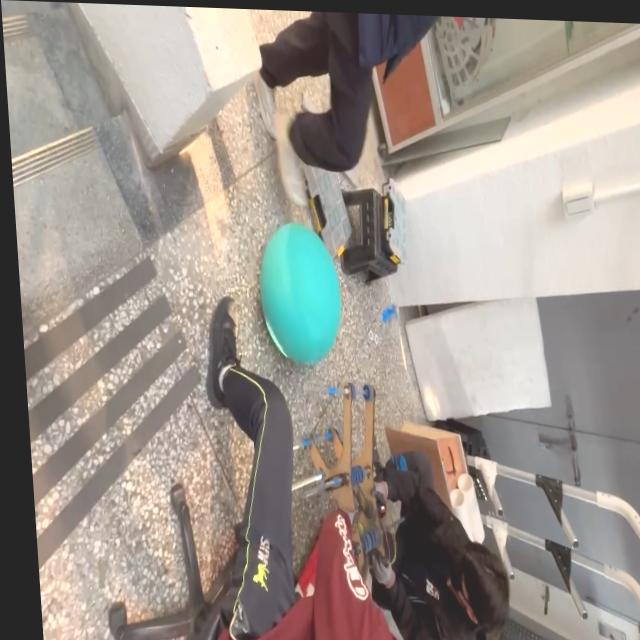ALGAE: (253, 219, 347, 368)
